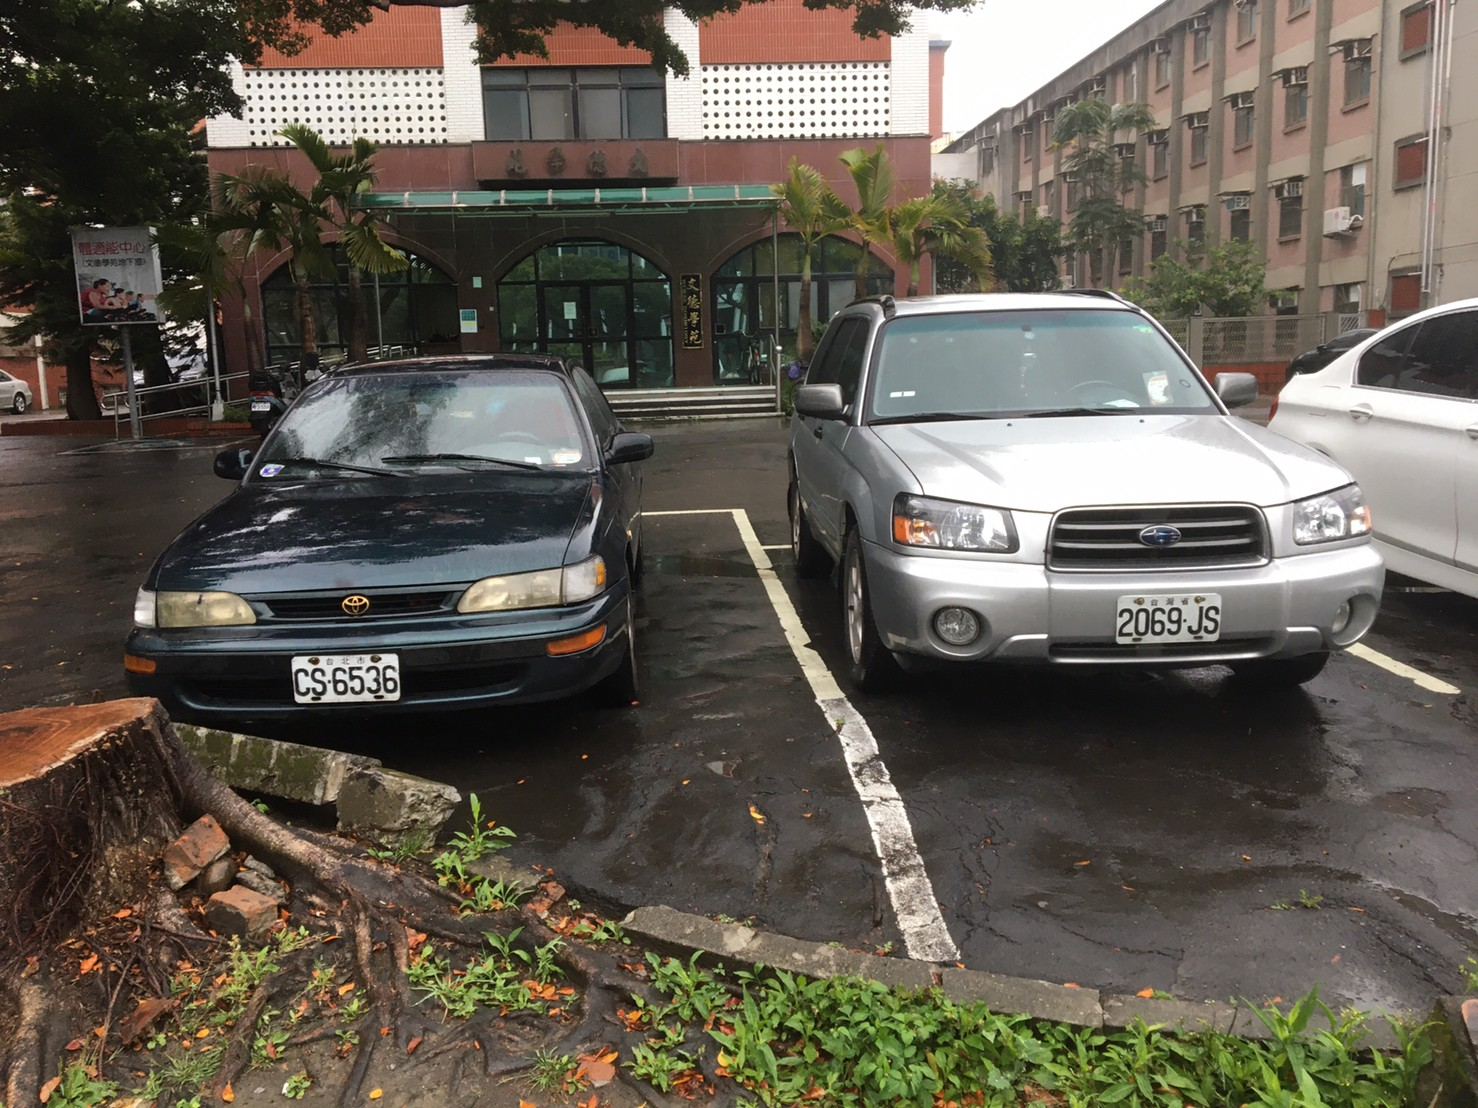LP: (283, 649, 404, 706), (1113, 589, 1224, 648)
